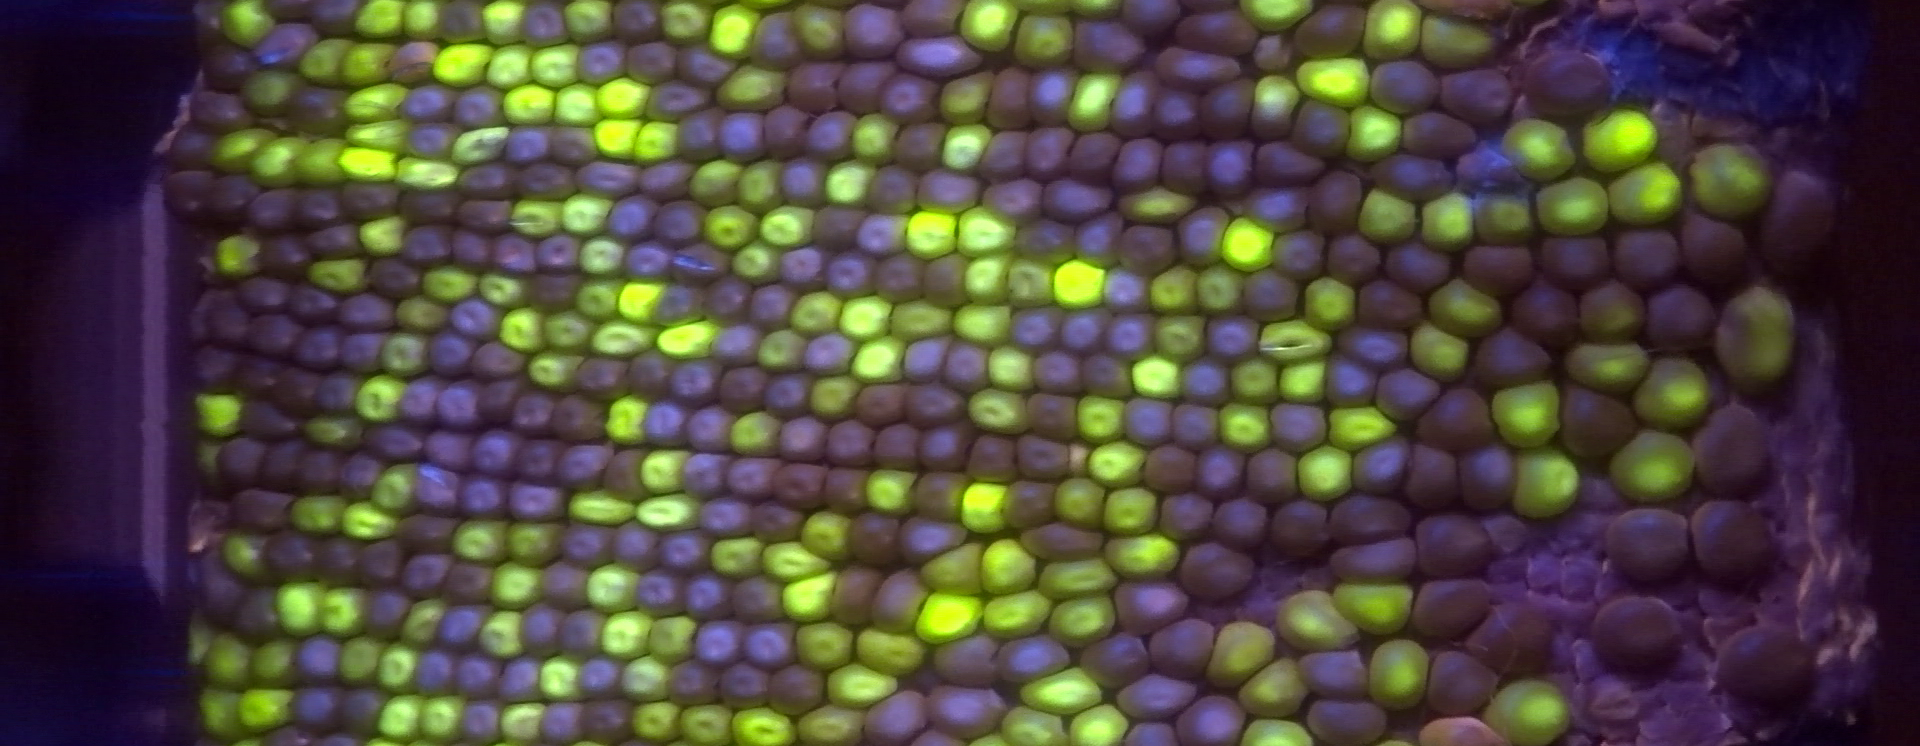fluorescent: (1714, 281, 1801, 398), (1625, 349, 1719, 434), (1605, 424, 1703, 505), (1469, 675, 1578, 746), (1273, 586, 1364, 670), (1684, 140, 1778, 220), (1504, 440, 1586, 524), (1487, 375, 1571, 454), (1232, 648, 1316, 726), (1329, 575, 1424, 643), (1526, 170, 1618, 241), (1578, 100, 1664, 176), (1496, 113, 1587, 184), (1602, 158, 1690, 229), (1202, 619, 1281, 698), (1418, 5, 1502, 78), (1420, 274, 1509, 343), (1561, 337, 1658, 399), (1362, 636, 1436, 715), (1573, 274, 1656, 345), (1400, 315, 1478, 387), (1294, 51, 1378, 115), (1015, 661, 1111, 717), (1043, 590, 1127, 653), (851, 620, 936, 679), (1469, 183, 1543, 250), (1100, 529, 1185, 587), (906, 587, 988, 647), (1416, 187, 1485, 257), (1007, 7, 1080, 73), (713, 58, 793, 118), (184, 677, 257, 742), (977, 586, 1058, 644), (1353, 181, 1423, 249), (1253, 315, 1341, 367), (820, 659, 909, 712), (1062, 67, 1128, 137), (973, 534, 1044, 599), (916, 538, 992, 598), (1244, 71, 1303, 148), (1296, 271, 1360, 339), (953, 202, 1025, 263), (1216, 211, 1283, 276), (298, 251, 382, 303), (699, 1, 767, 65), (1291, 440, 1358, 503), (1359, 1, 1427, 65), (269, 577, 338, 639), (1112, 184, 1204, 230), (789, 697, 876, 746), (934, 67, 1000, 131), (1037, 552, 1125, 600), (1324, 402, 1403, 454), (962, 383, 1038, 439), (1097, 483, 1168, 541), (1341, 100, 1408, 162), (245, 134, 320, 189), (229, 684, 305, 737), (882, 293, 962, 343), (280, 488, 361, 538), (789, 1, 852, 65), (502, 514, 569, 575), (446, 514, 520, 568), (899, 205, 969, 262), (202, 124, 278, 176), (583, 315, 666, 363), (193, 630, 258, 691), (1185, 258, 1251, 318), (284, 134, 358, 187), (1144, 311, 1212, 369), (485, 556, 553, 614), (580, 560, 649, 617), (338, 77, 416, 127), (238, 65, 307, 121), (951, 1, 1022, 56), (1145, 257, 1207, 320), (1051, 473, 1113, 535), (1273, 350, 1337, 412), (1070, 390, 1135, 450), (1084, 436, 1151, 494), (792, 616, 860, 674), (561, 484, 644, 530), (653, 315, 733, 363), (1000, 250, 1060, 314), (796, 506, 860, 566), (779, 567, 842, 627), (847, 331, 913, 388), (348, 367, 414, 425), (949, 296, 1018, 352), (366, 461, 429, 521), (218, 528, 282, 587), (289, 34, 356, 89), (752, 200, 820, 254), (430, 39, 500, 92), (982, 338, 1044, 397), (312, 584, 375, 643), (441, 122, 522, 168), (686, 156, 751, 212), (1127, 347, 1191, 403), (722, 408, 790, 462), (757, 539, 841, 582), (1046, 258, 1114, 311), (642, 610, 702, 670), (538, 307, 611, 356), (956, 477, 1018, 535), (244, 633, 302, 695), (1216, 397, 1278, 454), (1221, 352, 1286, 407), (860, 464, 927, 517), (958, 249, 1018, 307), (732, 156, 793, 213), (836, 289, 899, 345), (724, 703, 806, 746), (633, 489, 707, 537), (698, 201, 764, 254), (726, 233, 792, 285), (599, 388, 658, 447), (473, 604, 531, 663), (492, 303, 555, 358), (998, 699, 1071, 746), (553, 189, 618, 241), (804, 372, 869, 425), (820, 157, 887, 208), (334, 631, 392, 690), (340, 114, 421, 156), (353, 209, 415, 263), (206, 230, 269, 283), (610, 273, 673, 326), (636, 443, 700, 495), (624, 695, 689, 746), (216, 1, 282, 51), (938, 119, 996, 176), (396, 595, 456, 650), (414, 691, 474, 746), (470, 267, 541, 314), (1065, 699, 1136, 746), (785, 285, 849, 337), (598, 608, 656, 663), (1233, 1, 1327, 36), (530, 653, 591, 706), (411, 262, 482, 307), (751, 325, 818, 372), (617, 652, 681, 702), (482, 38, 539, 94), (527, 38, 584, 93), (849, 110, 901, 170), (504, 194, 571, 241), (338, 497, 404, 545), (337, 38, 398, 89), (372, 692, 433, 744), (490, 697, 553, 746), (389, 149, 467, 190), (294, 410, 369, 452), (569, 273, 629, 325), (675, 696, 736, 746), (375, 326, 437, 375), (392, 292, 460, 336), (333, 143, 405, 185), (556, 1, 617, 50), (656, 1, 718, 50), (189, 390, 250, 439), (707, 534, 773, 579), (524, 347, 587, 394), (372, 639, 422, 697), (179, 606, 220, 675), (574, 230, 631, 281), (501, 81, 561, 127), (1234, 715, 1321, 746), (549, 85, 602, 131), (478, 1, 531, 47), (594, 77, 647, 122), (348, 1, 408, 40), (191, 439, 231, 494), (398, 1, 446, 43)
nonfluorescent: (1720, 622, 1811, 699), (1689, 502, 1771, 578), (1693, 402, 1767, 486), (1604, 508, 1690, 581), (1562, 379, 1636, 462), (1596, 597, 1679, 668), (1473, 604, 1543, 677), (1529, 53, 1607, 115), (1417, 516, 1491, 579), (1469, 327, 1554, 382), (1109, 579, 1188, 637), (1416, 391, 1491, 450), (1776, 176, 1829, 258), (926, 686, 1003, 742), (1543, 228, 1609, 293), (1646, 285, 1707, 355), (1416, 575, 1487, 635), (1367, 149, 1451, 198), (1178, 544, 1251, 600), (1682, 207, 1744, 274), (1427, 652, 1496, 710), (1071, 20, 1146, 73), (1438, 70, 1513, 122), (1109, 65, 1163, 138), (1113, 675, 1196, 722), (1329, 537, 1416, 581), (1294, 5, 1367, 55), (869, 567, 928, 628), (1086, 630, 1147, 688), (1309, 699, 1390, 744), (1330, 492, 1402, 541), (1352, 434, 1409, 495), (1376, 367, 1439, 424), (1178, 9, 1255, 54), (1464, 241, 1531, 294), (992, 636, 1067, 682), (1389, 243, 1452, 296), (1153, 45, 1240, 85), (1153, 619, 1215, 674), (1178, 693, 1244, 744), (1201, 140, 1256, 200), (842, 2, 904, 56), (1517, 279, 1570, 342), (185, 83, 250, 134), (863, 691, 924, 744), (1400, 114, 1477, 156), (1404, 443, 1456, 506), (1298, 650, 1367, 697), (1371, 62, 1436, 111), (1308, 174, 1362, 233), (1458, 443, 1511, 503), (938, 637, 999, 688), (894, 36, 984, 70), (1200, 77, 1255, 134), (749, 13, 804, 69), (1621, 233, 1676, 288), (1029, 66, 1078, 127), (902, 518, 969, 563), (1292, 100, 1347, 154), (200, 174, 253, 229), (1213, 499, 1267, 554), (1016, 524, 1102, 559), (413, 456, 460, 517), (918, 418, 972, 472), (830, 562, 876, 626), (1109, 134, 1158, 192), (920, 167, 982, 212), (1177, 211, 1227, 267), (198, 37, 256, 86), (1152, 76, 1196, 140), (840, 61, 893, 114), (920, 252, 972, 305), (1247, 448, 1299, 501), (1341, 330, 1409, 370), (1273, 501, 1329, 551), (800, 110, 857, 158), (1254, 140, 1318, 183), (1122, 397, 1173, 450), (432, 380, 484, 432), (493, 654, 546, 706), (1270, 229, 1324, 279), (263, 527, 317, 577), (1024, 392, 1081, 439), (669, 243, 729, 287), (1003, 480, 1056, 530), (1074, 209, 1123, 263), (771, 663, 825, 712), (198, 550, 234, 624), (861, 168, 918, 213), (900, 382, 958, 428), (1360, 282, 1423, 323), (550, 392, 602, 441), (744, 619, 797, 668), (855, 379, 909, 426), (187, 345, 241, 393), (227, 587, 277, 637), (1122, 224, 1171, 276), (880, 72, 934, 119), (1329, 239, 1382, 285), (1247, 189, 1307, 230), (399, 78, 454, 124), (1064, 131, 1119, 176), (823, 247, 872, 298), (273, 366, 323, 415), (667, 356, 719, 404), (849, 514, 896, 566), (258, 23, 311, 70), (1270, 403, 1322, 450), (228, 488, 287, 529), (989, 70, 1033, 125), (340, 183, 400, 223), (556, 443, 612, 486), (334, 290, 396, 330), (902, 332, 951, 381), (966, 432, 1015, 481), (823, 463, 872, 512), (916, 472, 965, 521), (1324, 356, 1374, 404), (471, 431, 522, 479), (246, 187, 298, 234), (653, 198, 705, 244), (640, 80, 699, 120), (1022, 126, 1070, 175), (778, 244, 827, 292), (560, 610, 607, 659), (453, 472, 503, 518), (660, 528, 710, 575), (399, 551, 446, 601), (629, 347, 675, 398), (437, 604, 489, 649), (1047, 180, 1104, 220), (337, 328, 389, 372), (310, 532, 362, 576), (239, 401, 294, 442), (1163, 491, 1211, 539), (686, 404, 735, 451), (872, 423, 921, 469), (1194, 445, 1240, 494), (262, 230, 312, 276), (791, 65, 842, 109), (1053, 307, 1104, 352), (778, 461, 829, 505), (719, 663, 770, 707), (710, 325, 764, 366), (366, 419, 425, 457), (891, 122, 947, 163), (902, 2, 967, 37), (1145, 442, 1193, 489), (216, 439, 262, 486), (260, 439, 306, 486), (1244, 273, 1293, 318), (733, 575, 782, 620), (696, 616, 741, 665), (669, 657, 714, 706), (479, 377, 523, 428), (639, 159, 696, 198), (289, 325, 340, 367), (313, 372, 367, 413), (1183, 358, 1229, 404), (454, 85, 500, 132), (715, 115, 763, 160), (1207, 317, 1256, 361), (1167, 401, 1216, 445), (398, 377, 442, 426), (290, 85, 340, 127), (622, 236, 672, 279), (514, 439, 564, 481), (408, 120, 459, 162), (983, 129, 1025, 180), (249, 314, 300, 355), (457, 195, 513, 233), (677, 108, 718, 160), (774, 416, 827, 457), (680, 42, 733, 81), (294, 189, 340, 234), (1031, 349, 1078, 394), (613, 523, 659, 570), (1019, 216, 1067, 260), (1010, 310, 1059, 353), (236, 354, 285, 397), (544, 559, 587, 608), (520, 605, 563, 654), (1082, 352, 1133, 393), (509, 480, 561, 521), (414, 648, 454, 699), (454, 165, 514, 200), (778, 157, 823, 202), (640, 401, 686, 446), (519, 2, 566, 47), (754, 497, 801, 541), (424, 330, 471, 372), (713, 365, 760, 408), (636, 568, 683, 611), (1163, 145, 1205, 194), (1104, 314, 1153, 355), (576, 355, 624, 397), (858, 212, 909, 252), (729, 459, 779, 500), (986, 184, 1041, 220), (305, 219, 356, 258), (824, 423, 876, 462), (397, 514, 456, 549), (531, 277, 588, 312), (400, 190, 453, 228), (167, 122, 212, 167), (877, 251, 922, 295), (336, 452, 380, 497), (813, 205, 861, 246), (449, 299, 500, 338), (576, 163, 637, 195), (629, 39, 673, 83), (681, 453, 725, 497), (610, 194, 653, 239), (659, 281, 702, 326), (502, 124, 550, 164), (162, 174, 209, 214), (763, 374, 811, 414), (764, 109, 803, 158), (513, 390, 557, 432), (562, 526, 606, 568), (295, 635, 338, 679), (365, 590, 407, 636), (371, 255, 418, 295), (949, 342, 989, 388), (1020, 436, 1067, 477), (609, 448, 644, 501), (206, 296, 249, 339), (493, 232, 538, 273), (806, 333, 850, 375), (475, 341, 519, 382), (300, 447, 340, 492), (239, 274, 287, 312), (448, 565, 490, 608), (284, 283, 334, 318), (751, 284, 795, 325), (454, 655, 495, 699), (405, 225, 453, 262), (364, 538, 400, 586), (1109, 265, 1145, 314), (687, 577, 729, 619), (392, 42, 432, 85), (429, 430, 469, 473), (519, 168, 574, 198), (442, 2, 484, 43), (580, 655, 622, 696), (309, 1, 358, 36), (1124, 1, 1177, 33), (707, 278, 747, 318), (700, 497, 747, 532), (582, 44, 624, 81), (551, 125, 595, 160), (610, 2, 660, 33), (452, 225, 486, 269), (1123, 720, 1179, 744), (538, 239, 578, 269), (912, 728, 958, 746)
